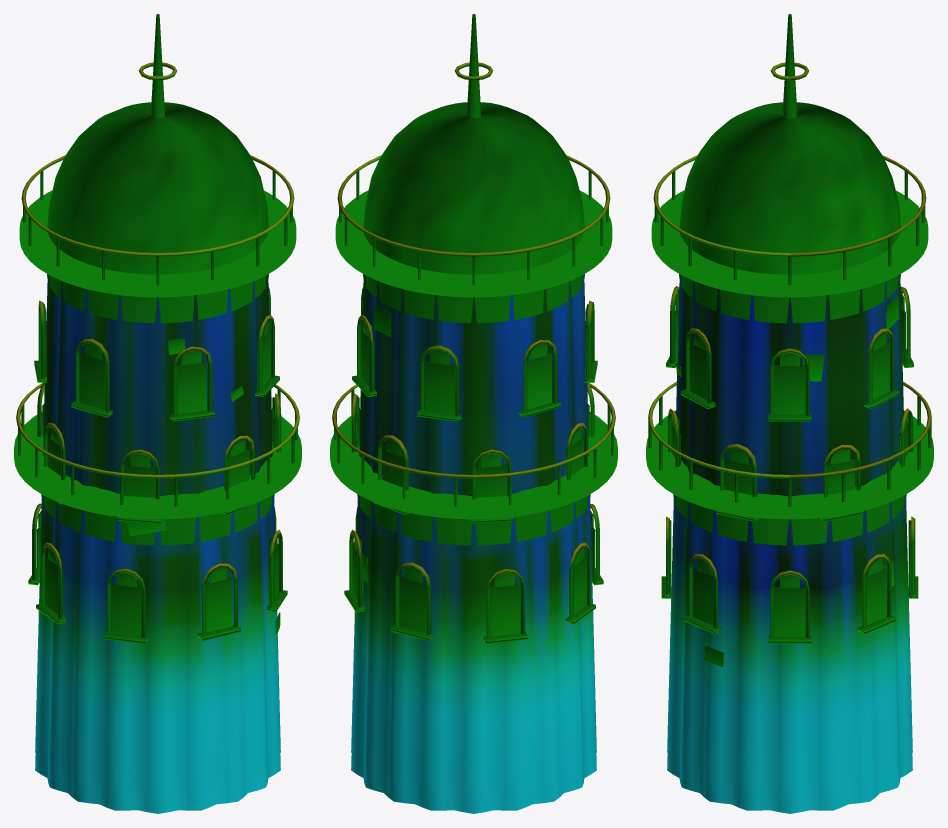
Rendered from iskarra_tower_small.glb.
3 views of the same model, side by side, from view 1: azimuth 30°, elevation 25°; view 2: azimuth 150°, elevation 25°; view 3: azimuth 270°, elevation 25° (orthographic).
Parts seen in each view (by area): view 1: iskarra_tower_small; view 2: iskarra_tower_small; view 3: iskarra_tower_small.
Boxes of the visible parts, box(x1,y1,x2,y2) form: iskarra_tower_small: box(14, 14, 301, 813); iskarra_tower_small: box(330, 14, 617, 813); iskarra_tower_small: box(646, 14, 933, 813).
Size of what is drawn, in the model's own units: 8.32 by 23.8 by 8.32.
